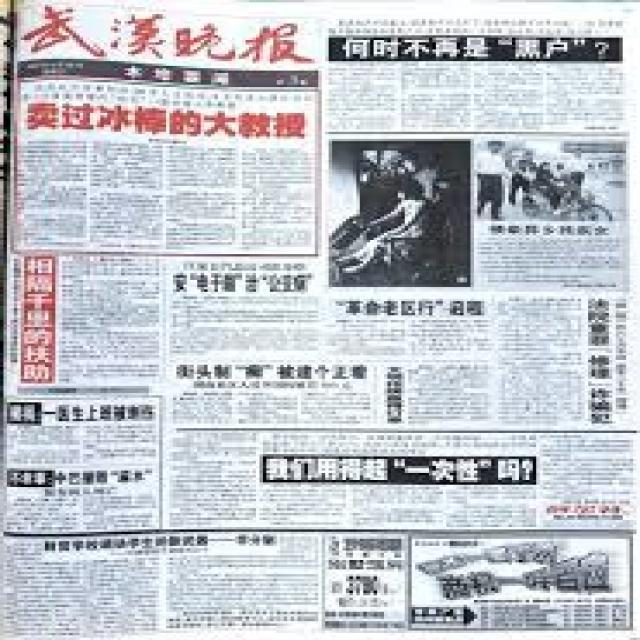Newspaper: (0, 0, 637, 638)
